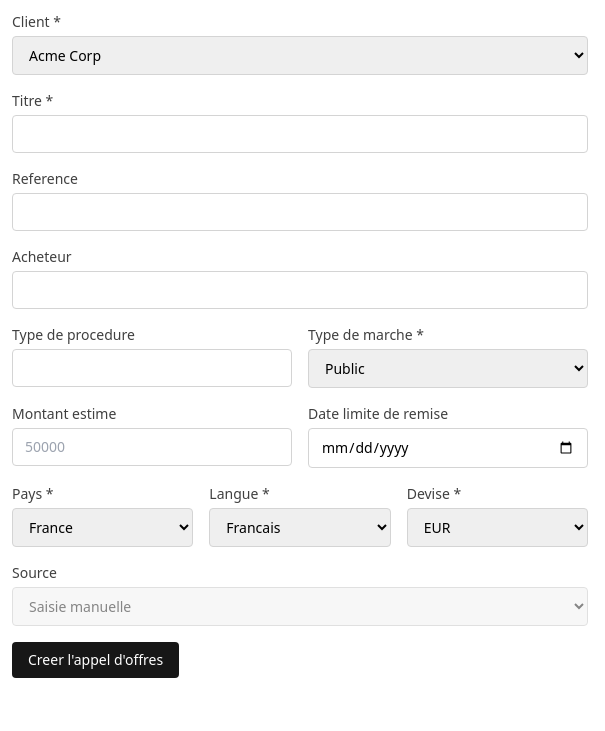
CreateTenderForm › displays the backend validation error message returned by the server action
Type "x" into the field labelled "Titre *". click: (300, 134)
box: 12,115 -> 588,153
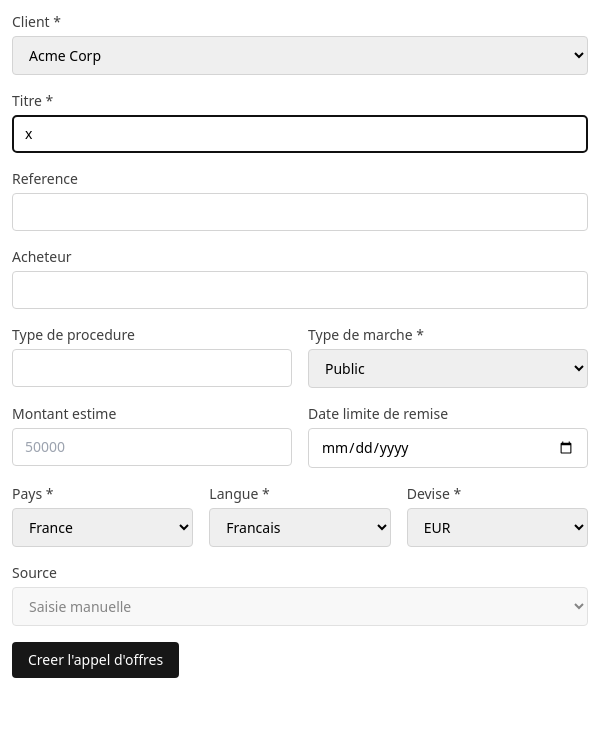
Click the button "Creer l'appel d'offres". click: (96, 660)
box: 12,642 -> 179,678
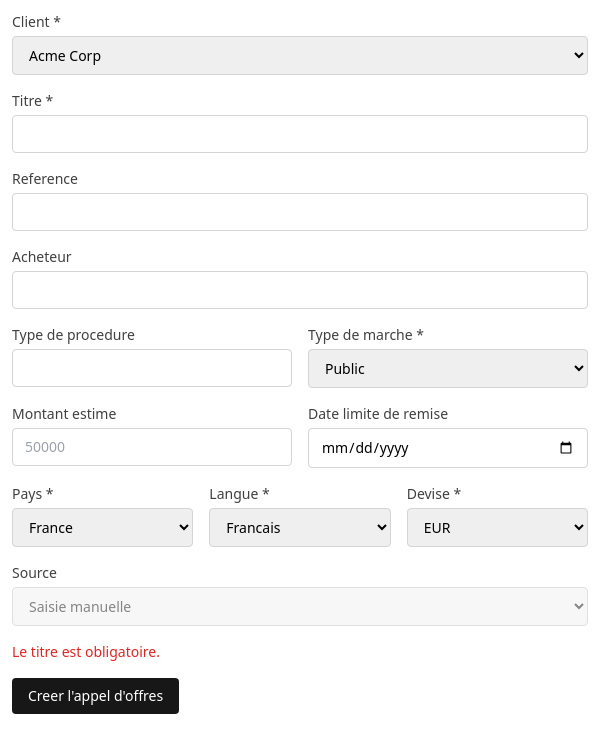
Now the message reads "Le titre est obligatoire.", box 12,642 -> 160,661
